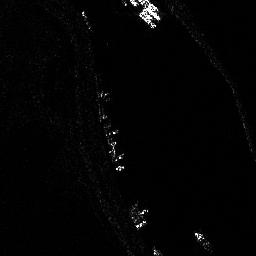ship: (193, 230, 218, 256)
